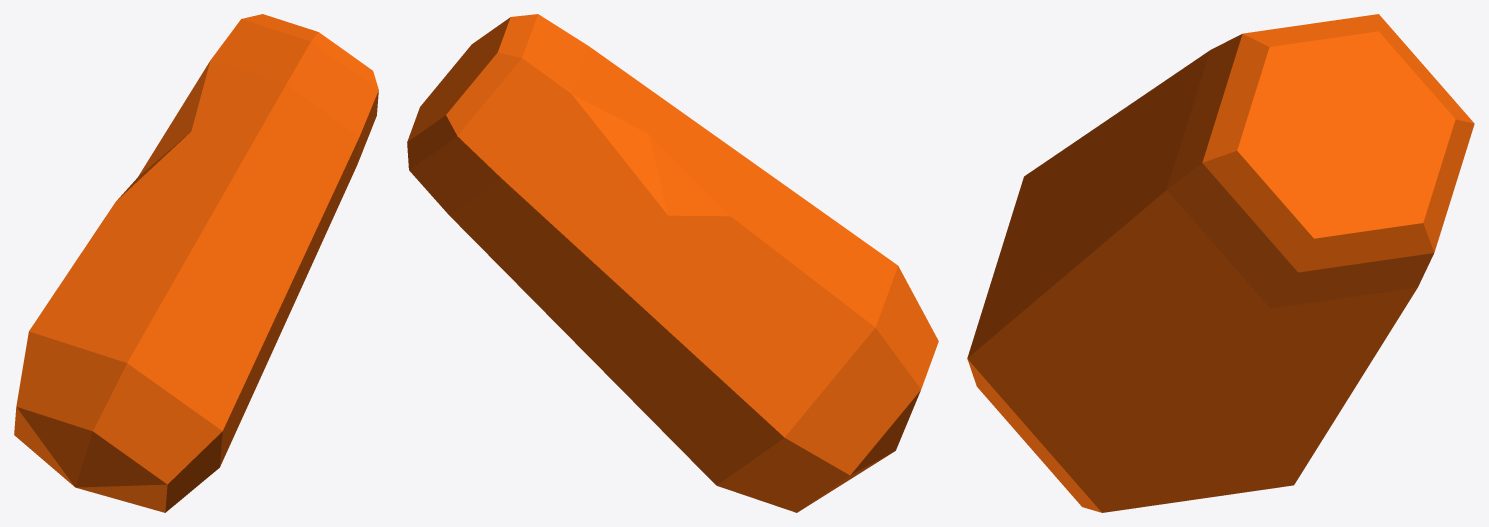
The model's file is mortar-stone-Bat.fbx.
3 renders of one model, left to right at view 1: azimuth 30°, elevation 25°; view 2: azimuth 150°, elevation 25°; view 3: azimuth 270°, elevation 25°, orthographic. The views are drawn at different scales.
Parts seen in each view (by area): view 1: mortar-stone-Bat; view 2: mortar-stone-Bat; view 3: mortar-stone-Bat.
Part boxes in pixels (left/top/right/bottom): mortar-stone-Bat: left=14, top=14, right=378, bottom=512; mortar-stone-Bat: left=407, top=14, right=938, bottom=512; mortar-stone-Bat: left=967, top=14, right=1474, bottom=512.
Size of the model in its own units: 125 by 116 by 84.71.
